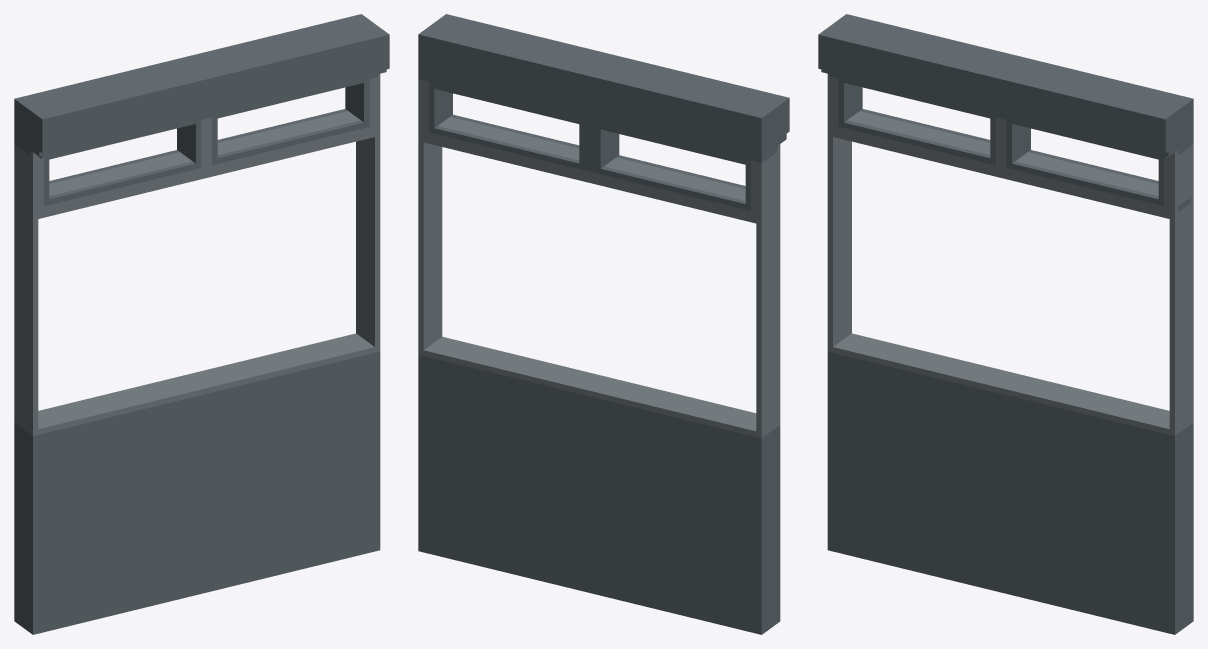
Rendered from lantai_3_corridor_wall.obj.
The picture shows the model from 3 angles, left to right: view 1: azimuth 30°, elevation 25°; view 2: azimuth 150°, elevation 25°; view 3: azimuth 330°, elevation 25°; orthographic projection.
Size of the model in its own units: 6.4 by 9.2 by 0.9.
1 material, 1 textured.
